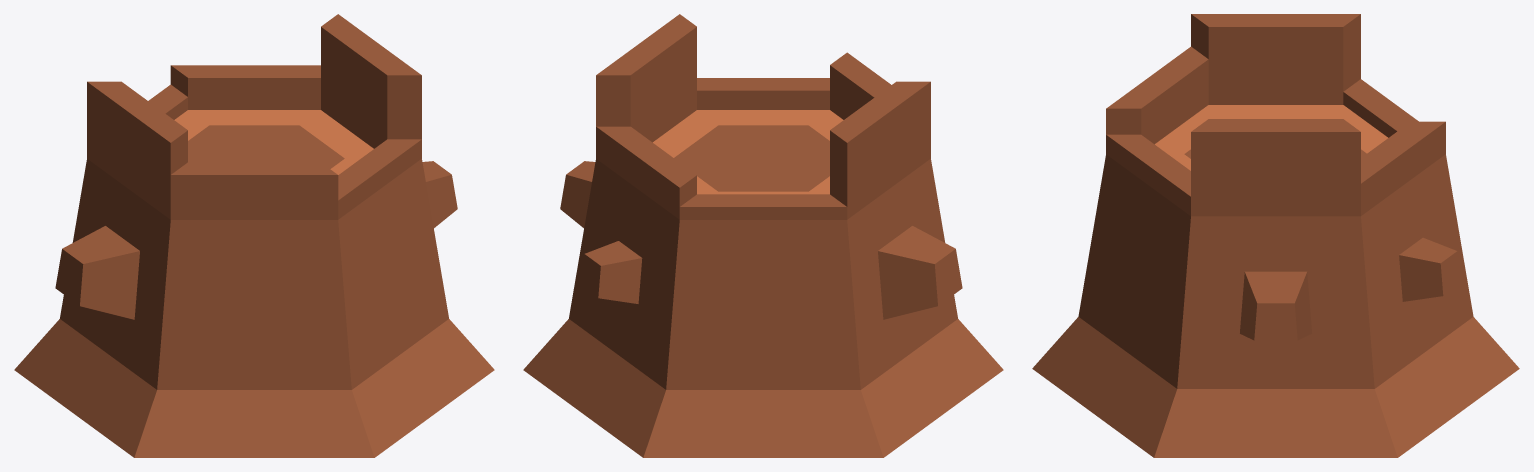
File: d_kenney_tronc_creux.glb
3 renders of one model, left to right at view 1: azimuth 30°, elevation 25°; view 2: azimuth 150°, elevation 25°; view 3: azimuth 270°, elevation 25°, orthographic.
Visible parts, largest first — view 1: d_kenney_tronc_creux; view 2: d_kenney_tronc_creux; view 3: d_kenney_tronc_creux.
Part boxes in pixels (box(x1,y1,x2,y2)): d_kenney_tronc_creux: box(14, 14, 494, 457); d_kenney_tronc_creux: box(523, 14, 1003, 457); d_kenney_tronc_creux: box(1032, 14, 1519, 457).
Bounding box in the file's own units: 0.5021 × 0.3726 × 0.5508.
Materials: 1 (1 with a texture image).
